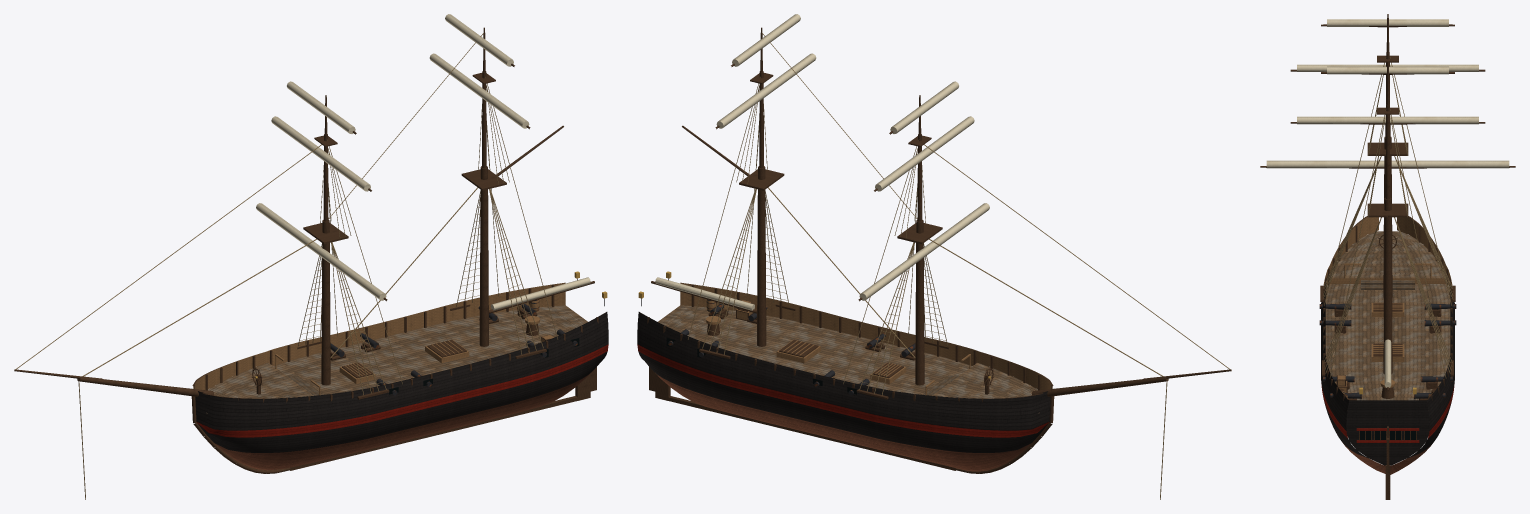
The model's file is SM_Art_LaLiberacion.gltf.
3 views of the same model, side by side, from view 1: azimuth 30°, elevation 25°; view 2: azimuth 150°, elevation 25°; view 3: azimuth 270°, elevation 25° (orthographic).
Visible parts, largest first — view 1: SM_Art_LaLiberacion; view 2: SM_Art_LaLiberacion; view 3: SM_Art_LaLiberacion.
Part boxes in pixels (left/top/right/bottom): SM_Art_LaLiberacion: left=14, top=14, right=608, bottom=499; SM_Art_LaLiberacion: left=637, top=14, right=1231, bottom=499; SM_Art_LaLiberacion: left=1260, top=14, right=1515, bottom=499.
Size of the model in its own units: 42.28 by 27.41 by 16.34.
Materials: 12 (10 with a texture image).
